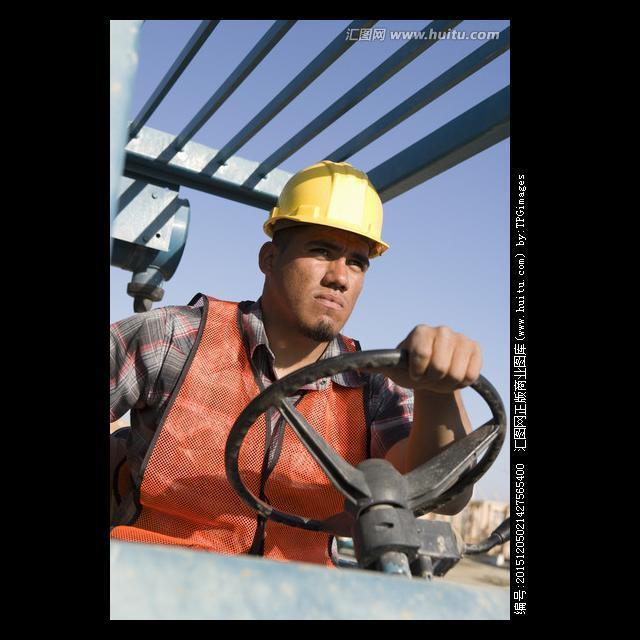Capacete: (263, 161, 388, 257)
Colete: (111, 297, 259, 553)
